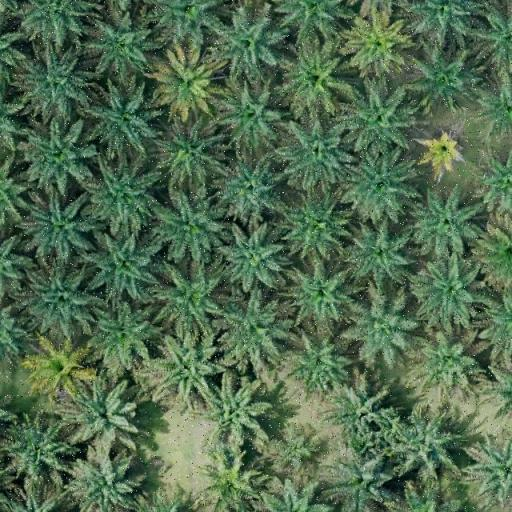Ganoderma: (160, 64, 206, 105), (354, 22, 400, 63), (422, 136, 462, 174), (40, 349, 80, 386)
